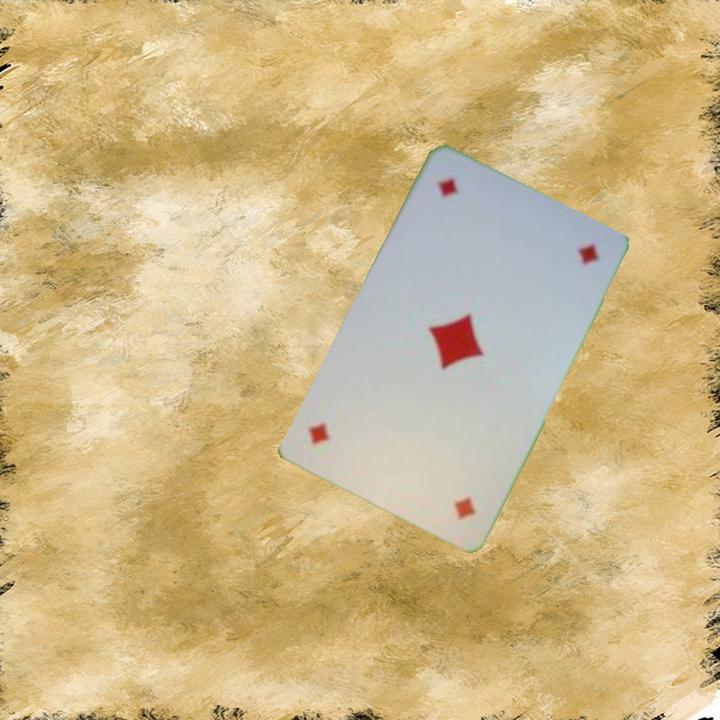d_a.png: (405, 162, 531, 282), (382, 415, 508, 535)
